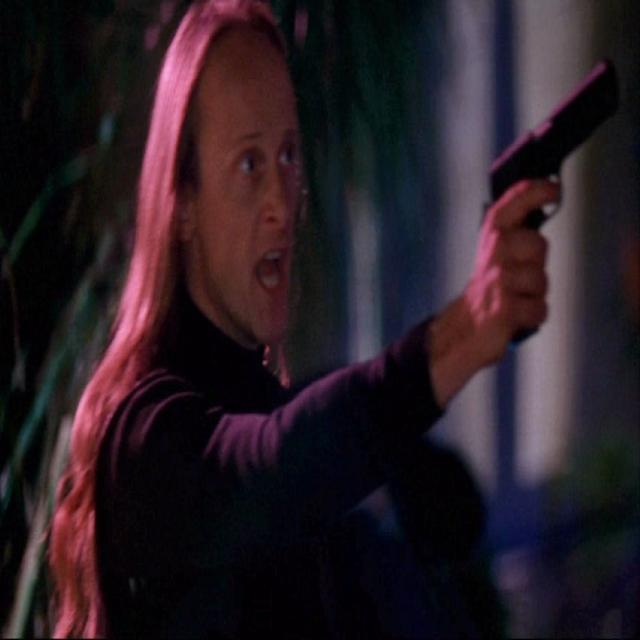gun-knife-thesis - v11 Yolov5 augmented: (471, 51, 626, 358)
